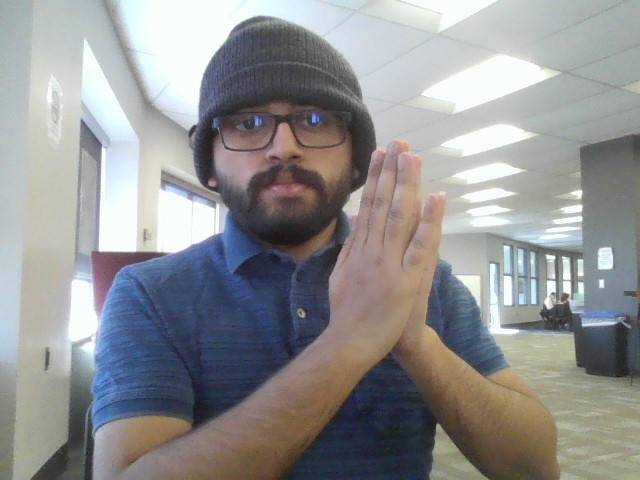start: (316, 139, 477, 360)
